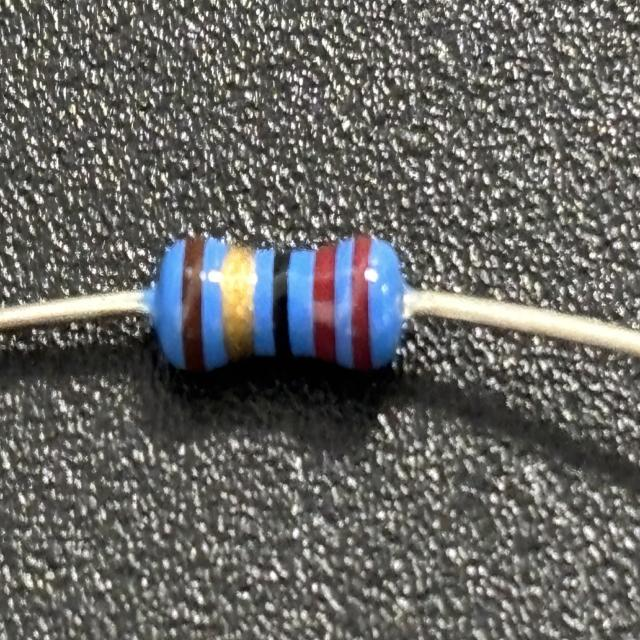resistor: (157, 224, 396, 388)
